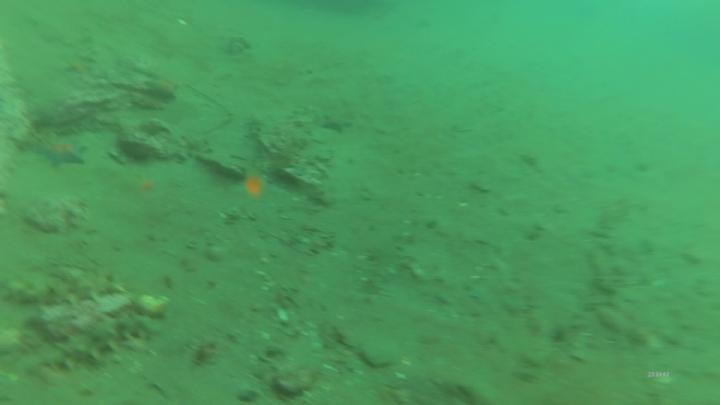holothurian: (21, 317, 158, 369), (4, 268, 119, 303)
starfish: (33, 134, 90, 170), (319, 111, 355, 136), (148, 77, 181, 101)
